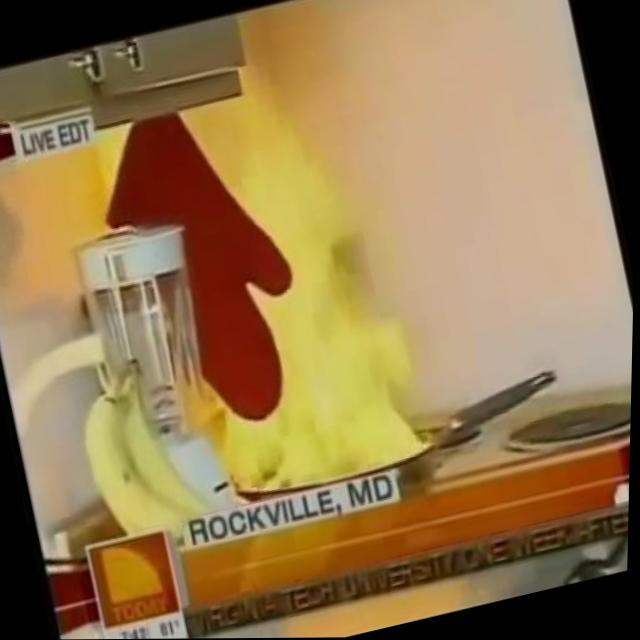fire: (83, 60, 460, 515)
